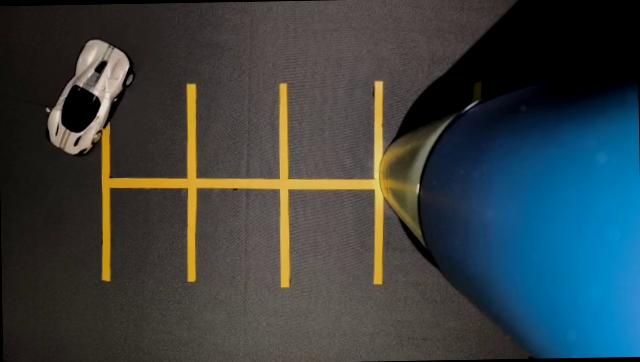toy_car: (35, 21, 144, 174)
